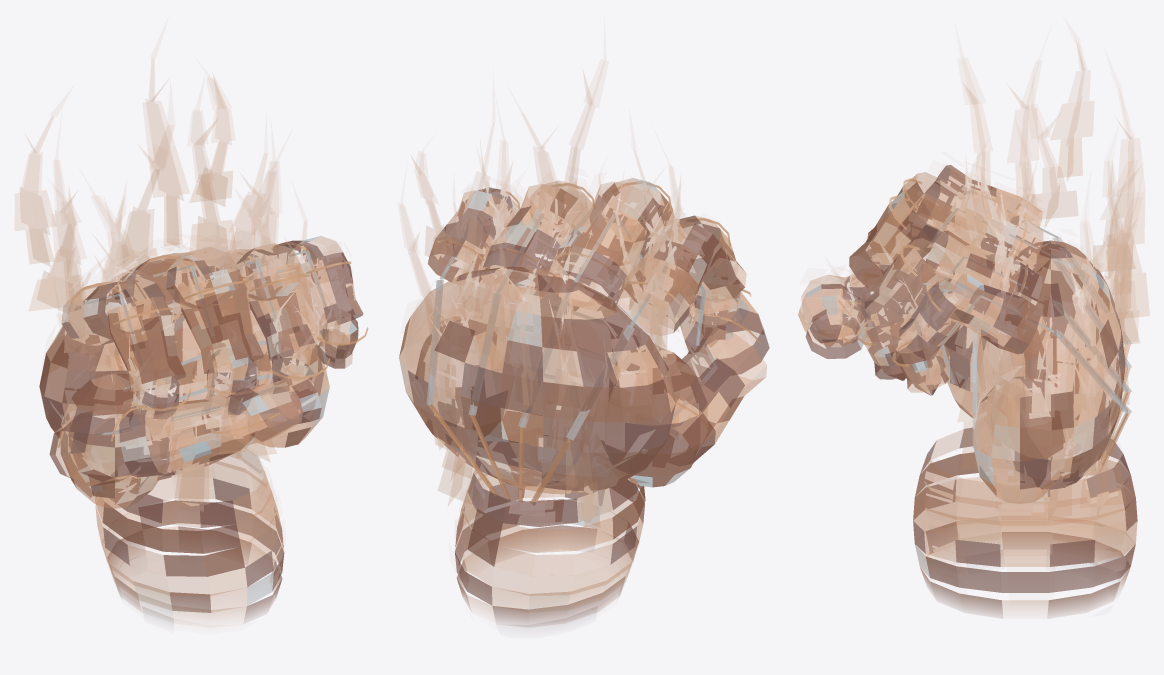
The model's file is fire-hand-white-blue-ion.glb.
3 renders of one model, left to right at view 1: azimuth 30°, elevation 25°; view 2: azimuth 150°, elevation 25°; view 3: azimuth 270°, elevation 25°, orthographic.
Visible parts, largest first — view 1: Fire hand / tick 36; view 2: Fire hand / tick 36; view 3: Fire hand / tick 36.
Part boxes in pixels (bbox=[...]): Fire hand / tick 36: bbox=[15, 59, 368, 625]; Fire hand / tick 36: bbox=[399, 60, 769, 627]; Fire hand / tick 36: bbox=[798, 37, 1149, 617].
Bounding box in the file's own units: 4.09 × 8.05 × 4.22.
